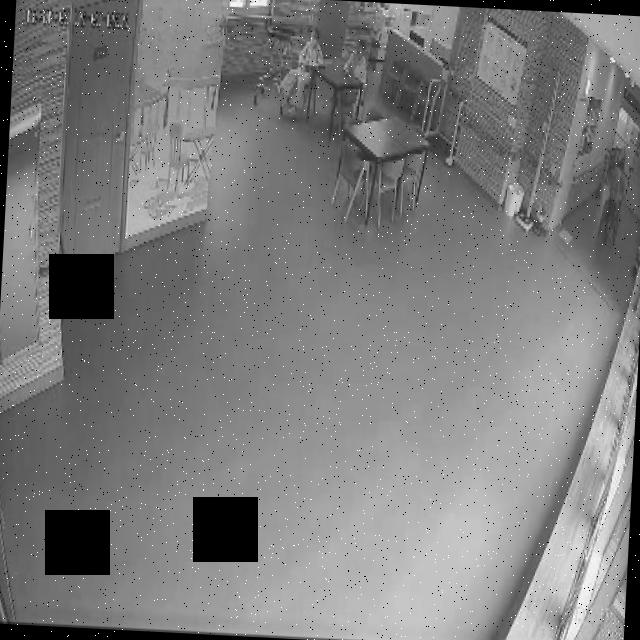patient: (278, 30, 324, 119), (346, 40, 374, 91)
sit: (278, 32, 325, 118)
